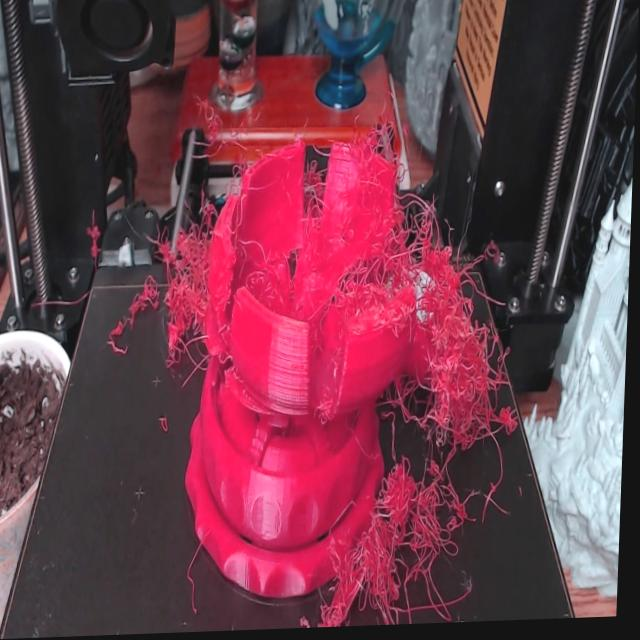spaghetti: (351, 156, 521, 629), (117, 172, 217, 405)
